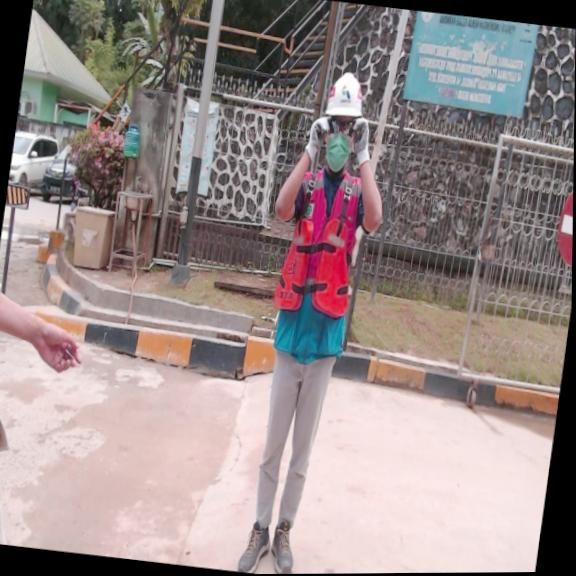safety_vest: (272, 211, 360, 321)
